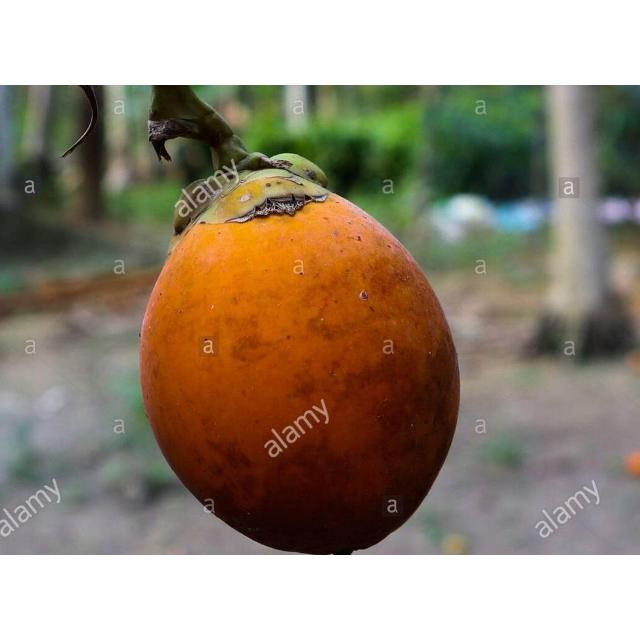good: (138, 155, 461, 555)
